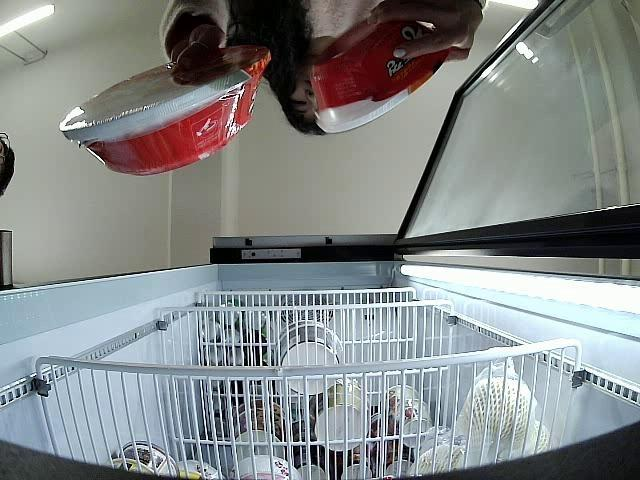10_wangTtukkeong: (59, 46, 272, 178), (309, 12, 452, 134)
